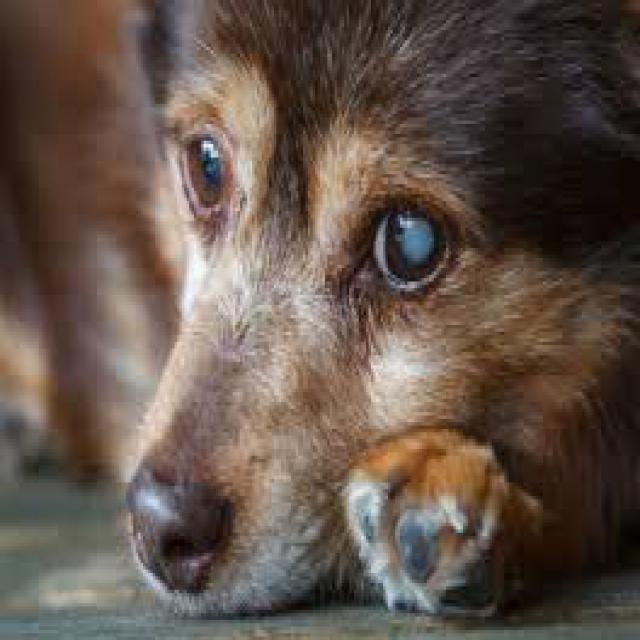eye: (364, 195, 458, 295), (175, 128, 231, 228)
